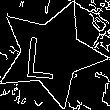L_N: (33, 27, 69, 80)
